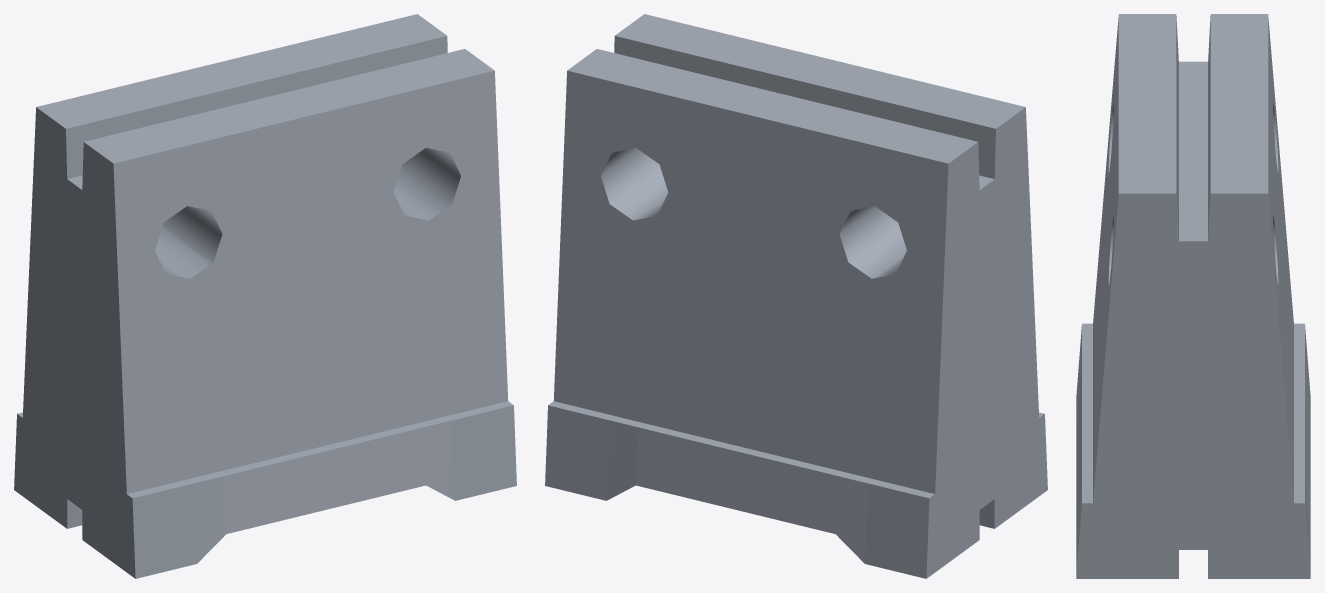
File: Road_Block_002.glb
3 renders of one model, left to right at view 1: azimuth 30°, elevation 25°; view 2: azimuth 150°, elevation 25°; view 3: azimuth 270°, elevation 25°, orthographic. The views are drawn at different scales.
Parts seen in each view (by area): view 1: Road Block.002; view 2: Road Block.002; view 3: Road Block.002.
Boxes of the visible parts, x1,y1,x2,y2 form: Road Block.002: (14, 14, 516, 578); Road Block.002: (545, 14, 1047, 578); Road Block.002: (1076, 14, 1310, 578).
Size of the model in its own units: 4.8 by 4.8 by 2.65.
Materials: 1 (1 with a texture image).
